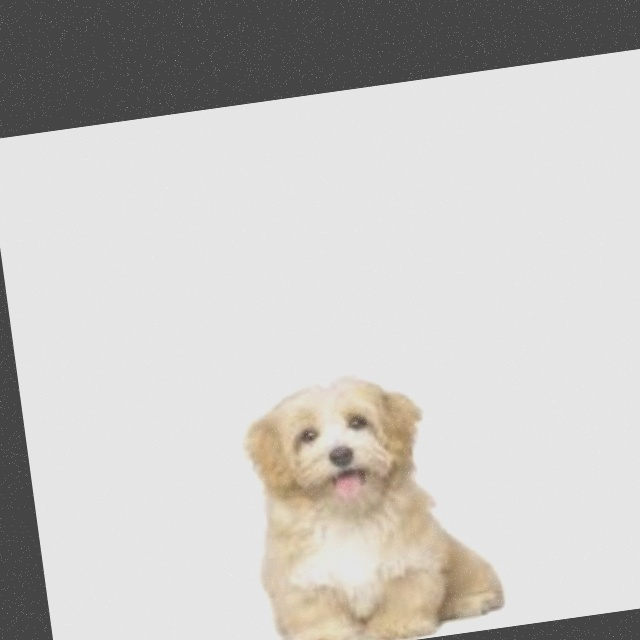dog: (194, 324, 527, 640)
